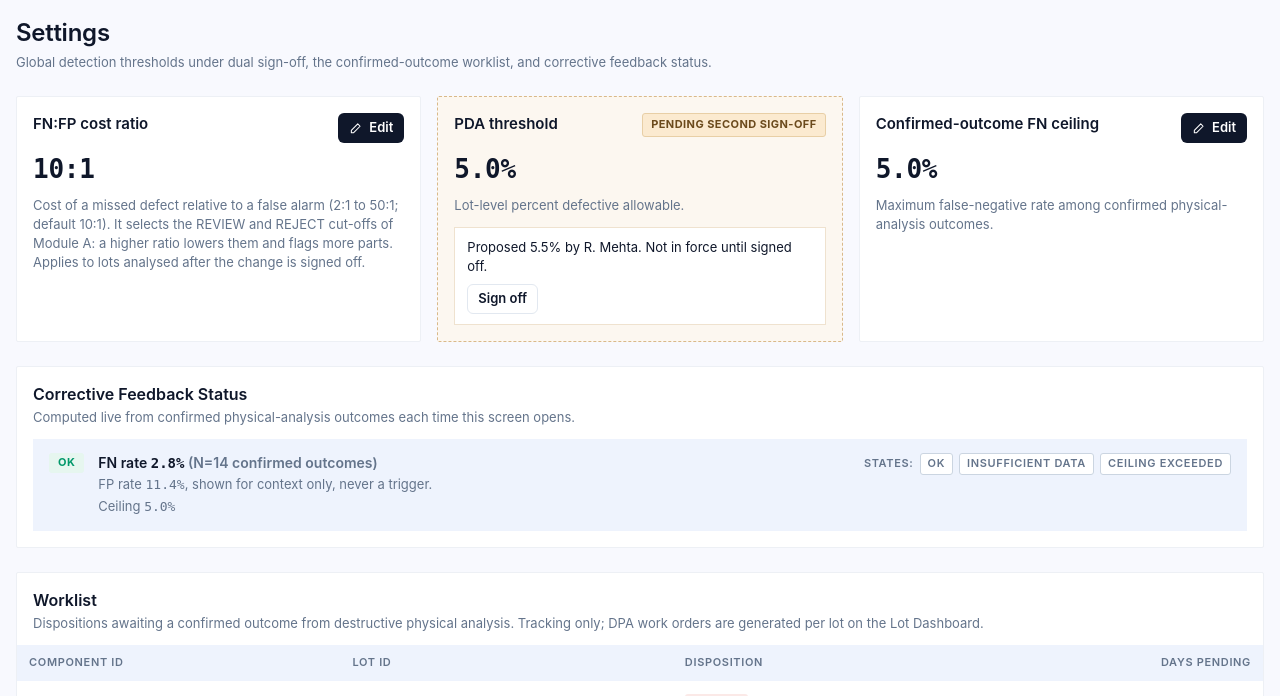
Test: SettingsScreen (E6 screen 7) › proposing a ratio change makes it pending, not final, and logs it to History
This screenshot has width=1280, height=696.
Expected: the element "FN:FP cost ratio" is shown, [16,96,421,342]
Expected: the text "10:1" is shown, [33,154,95,184]
Click the button "Edit" in the row of "FN:FP cost ratio" at (371, 128), box [338,113,404,143]
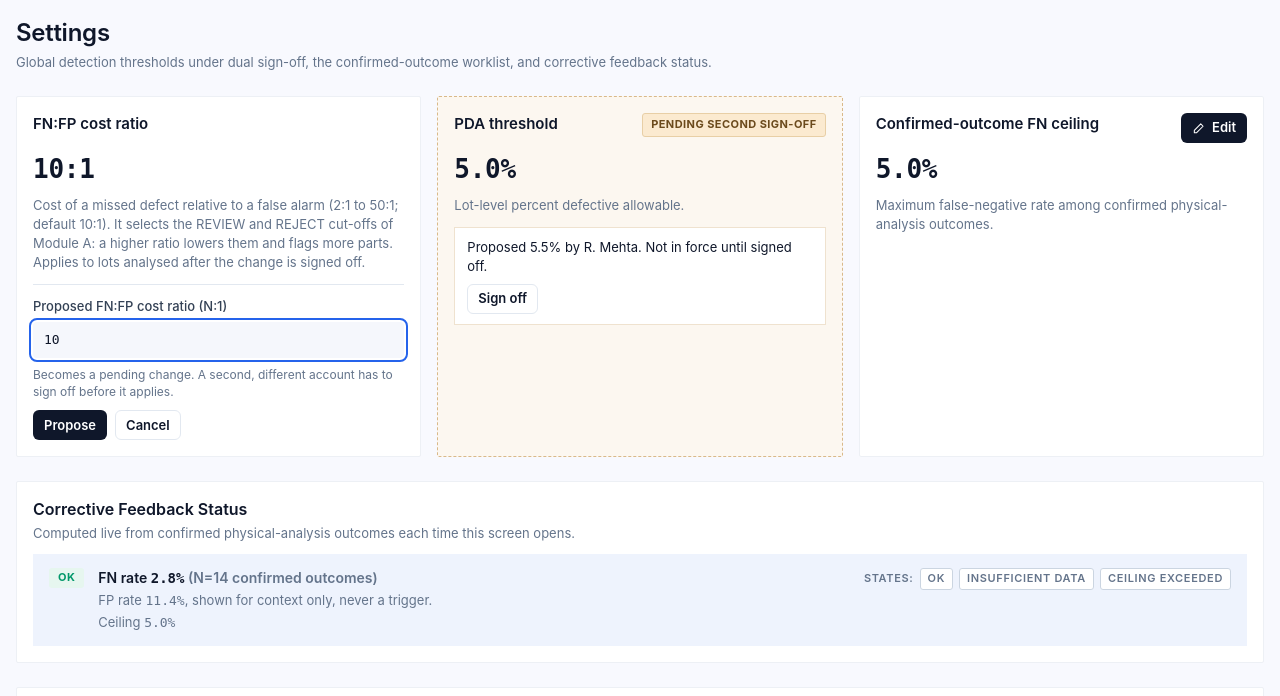
Replace the text in the field labelled "Proposed FN:FP cost ratio (N:1)" with "12" at (219, 340), box [33,322,404,358]
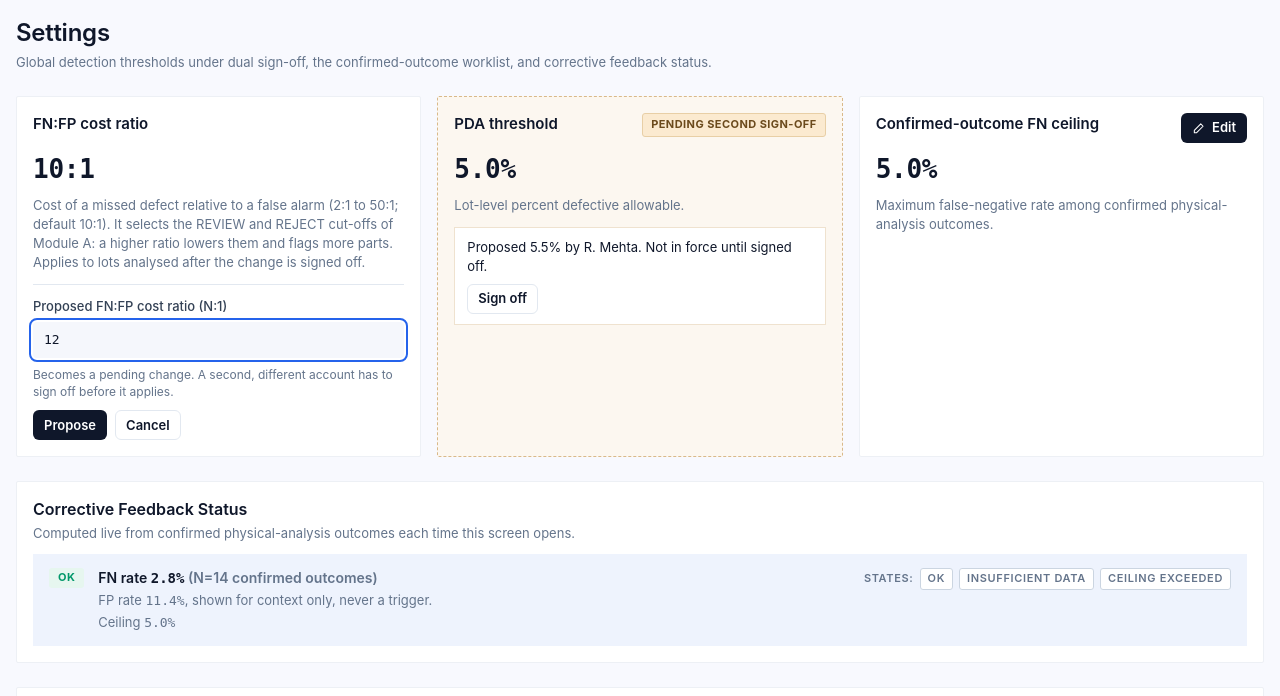
Click the button "Propose" at (70, 425), box [33,410,107,440]
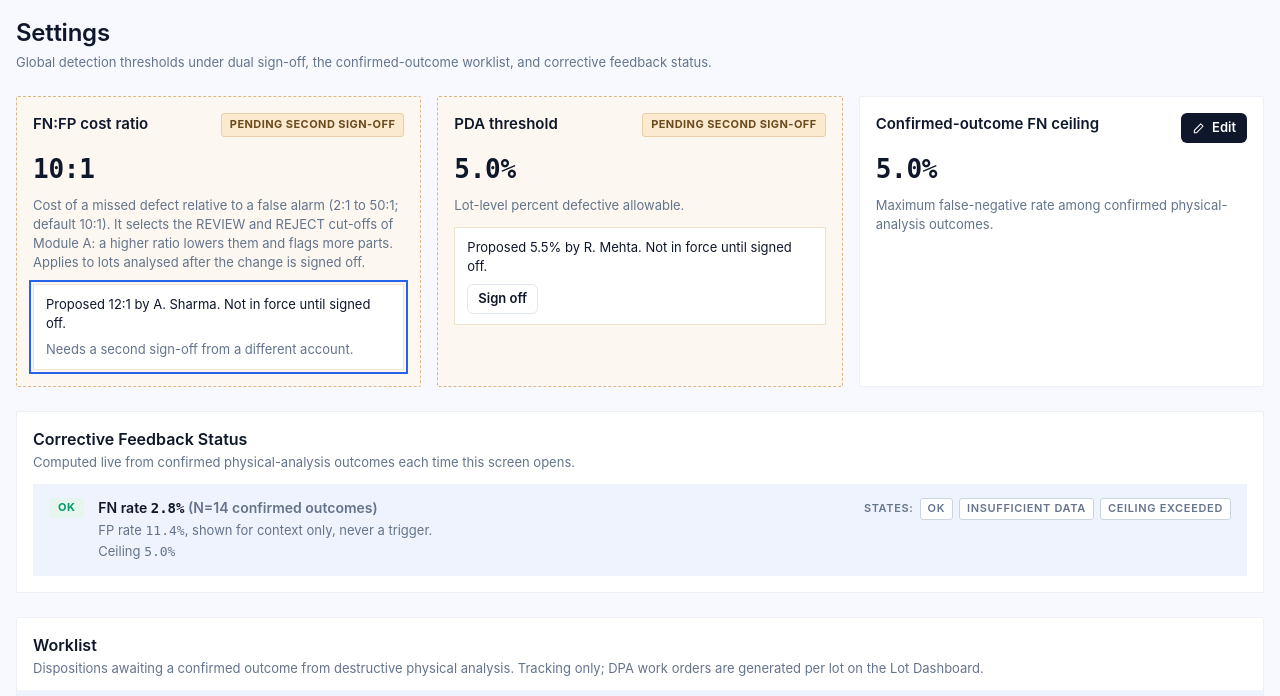
Expected: the text "10:1" is shown, [33,154,95,184]
Expected: the text "Proposed 12:1 by A. Sharma. Not in force until signed off." is shown, [46,295,391,332]
Expected: the text "Needs a second sign-off from a different account." is shown, [46,340,353,359]
